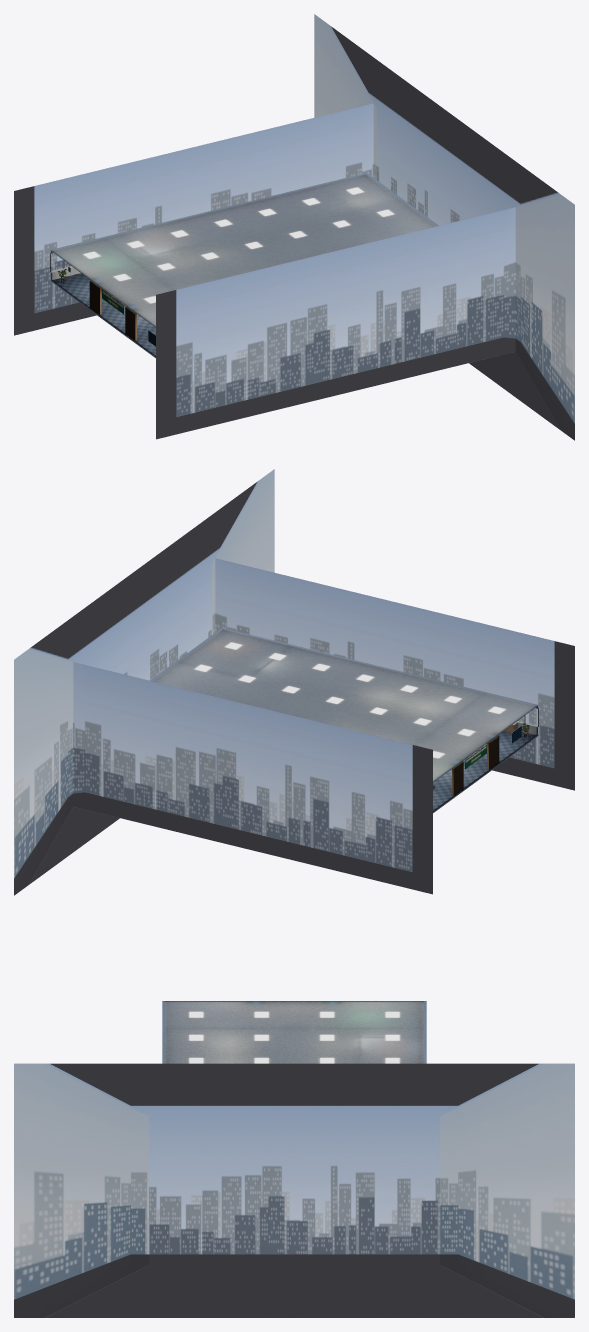
The model's file is int_cbn_office.glb.
3 views of the same model, one above another, from view 1: azimuth 30°, elevation 25°; view 2: azimuth 150°, elevation 25°; view 3: azimuth 270°, elevation 25° (orthographic). The views are drawn at different scales.
Visible parts, largest first — view 1: VIEW_south, VIEW_east, VIEW_north, ROOM; view 2: VIEW_north, VIEW_east, VIEW_south, ROOM; view 3: VIEW_east, ROOM.
Boxes of the visible parts, x1,y1,x2,y2 form: VIEW_south: [156, 207, 515, 439]; VIEW_east: [314, 14, 574, 440]; VIEW_north: [14, 103, 373, 335]; ROOM: [49, 173, 438, 357]; VIEW_north: [73, 662, 432, 894]; VIEW_east: [14, 469, 274, 895]; VIEW_south: [215, 558, 574, 790]; ROOM: [150, 628, 539, 812]; VIEW_east: [14, 1063, 574, 1317]; ROOM: [162, 1001, 426, 1063].
Size of the model in its own units: 42 by 25.72 by 51.43.
Materials: 5 (4 with a texture image).
